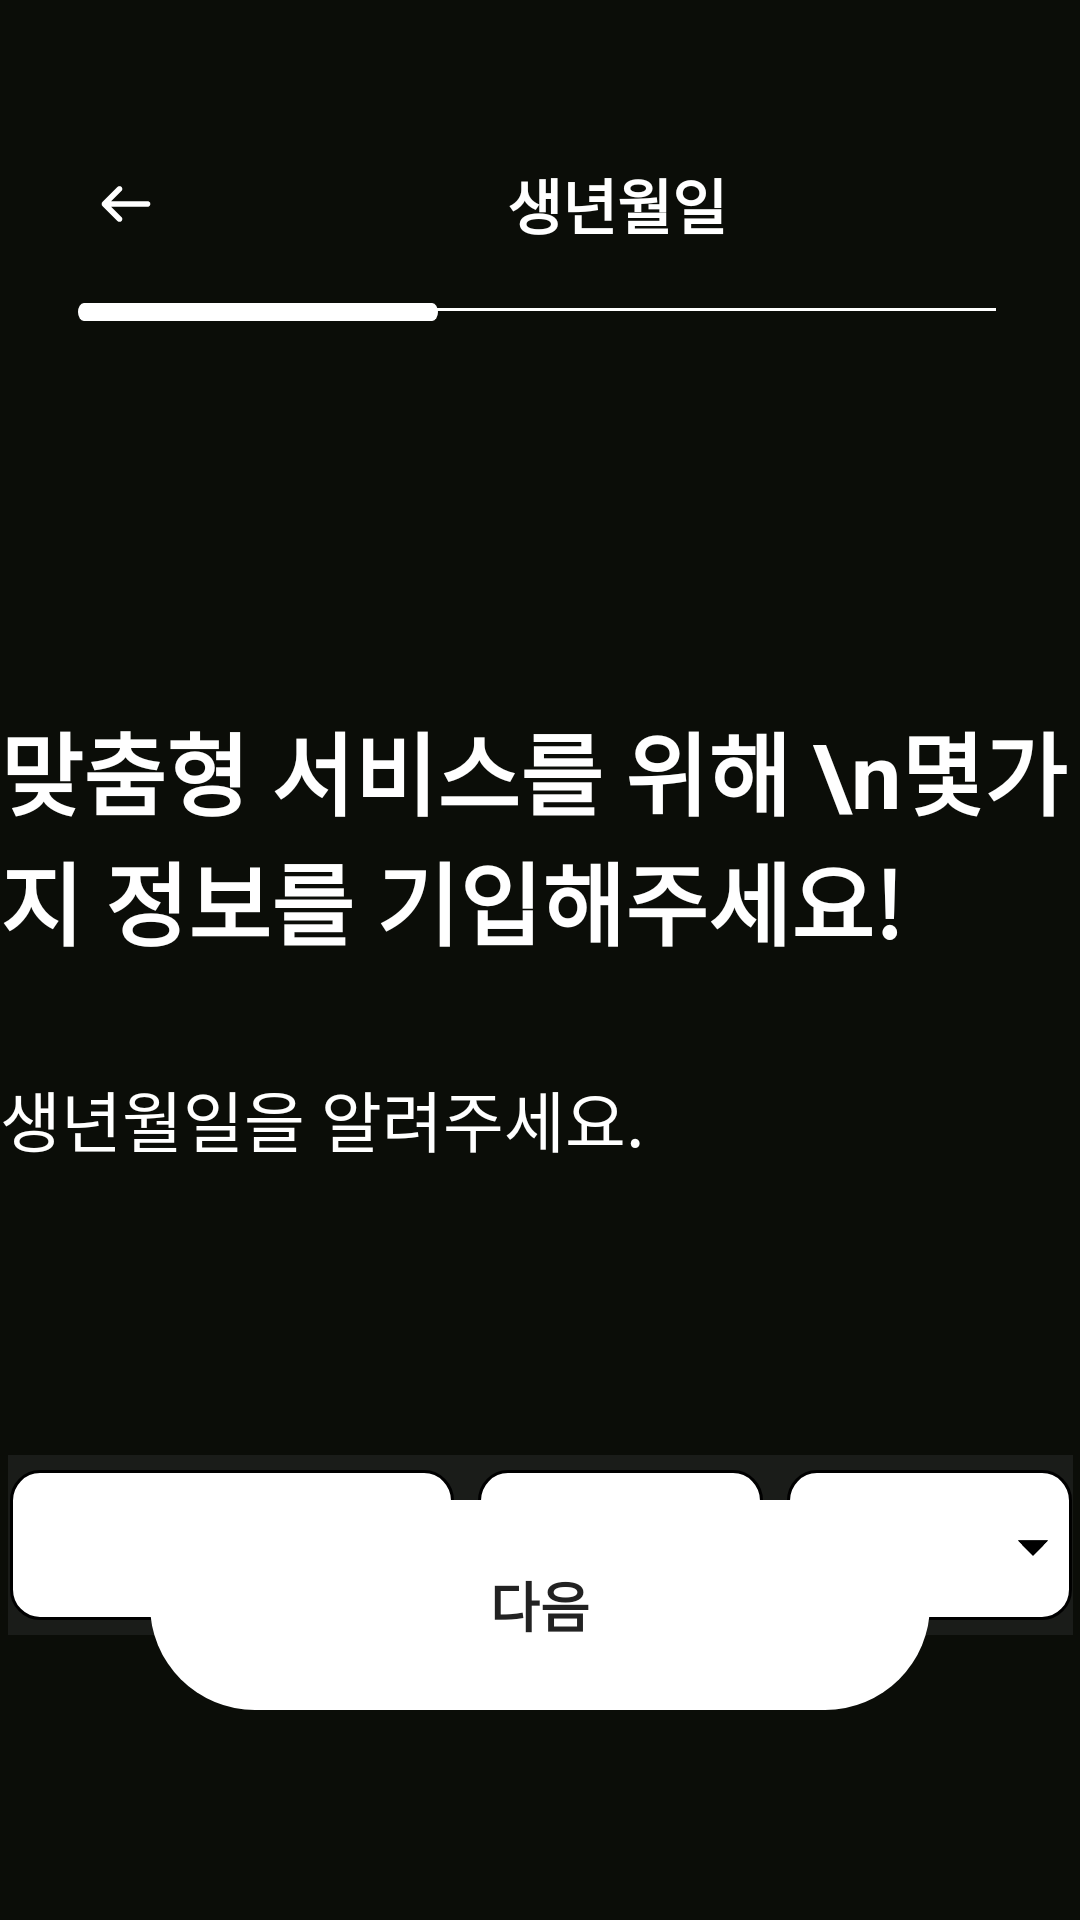

Icon click points for this 1080 × 1920 phone screenshot, format (x=x, y=y):
backarrow: (x=126, y=204)
